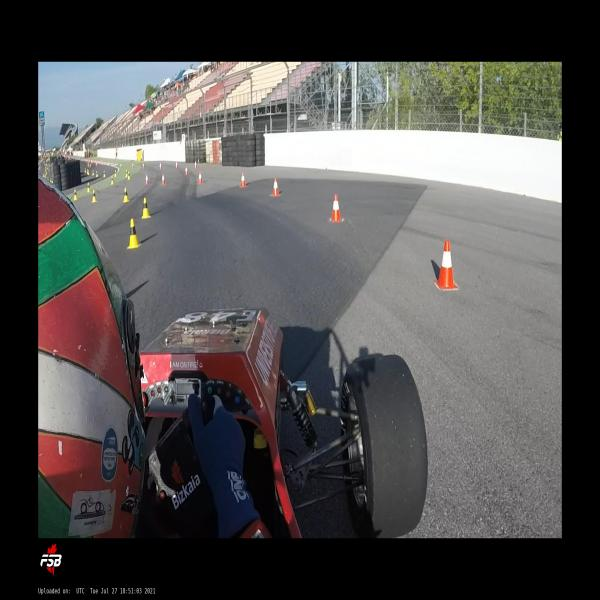orange_cone: (433, 239, 458, 289), (329, 194, 343, 222), (271, 177, 280, 197), (240, 172, 247, 188), (198, 171, 204, 184), (184, 166, 189, 175), (145, 174, 149, 185), (161, 174, 165, 184), (194, 161, 197, 169), (159, 162, 162, 170), (175, 161, 178, 169), (142, 163, 145, 168)
yellow_cone: (127, 218, 141, 249), (141, 197, 152, 218), (123, 188, 130, 202), (92, 189, 98, 202), (73, 189, 79, 200), (111, 175, 115, 185), (87, 183, 91, 192), (128, 172, 132, 180), (114, 171, 118, 178), (50, 177, 54, 183), (125, 169, 128, 177), (96, 171, 99, 178), (103, 171, 106, 178)
